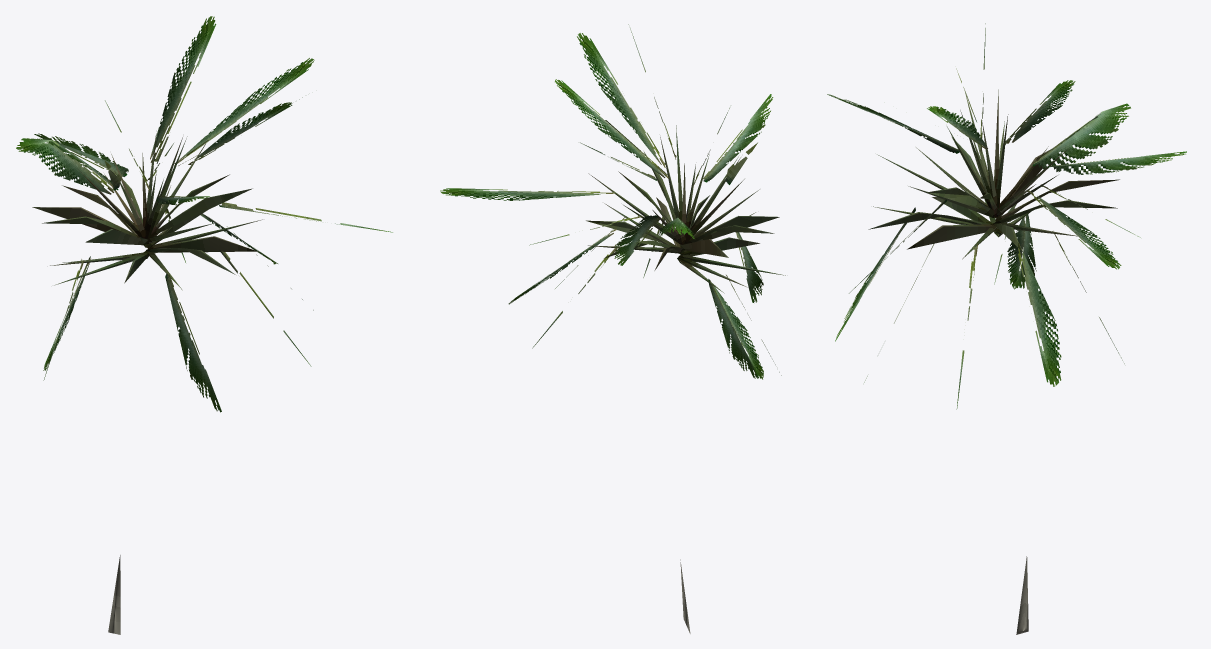
File: palm-young-a.lod2.glb
The picture shows the model from 3 angles, left to right: view 1: azimuth 30°, elevation 25°; view 2: azimuth 150°, elevation 25°; view 3: azimuth 270°, elevation 25°; orthographic projection. The views are drawn at different scales.
Visible parts, largest first — view 1: SM_MZRa_Palm_B081_MI_MZRa_Palm_B08a_0, SM_MZRa_Palm_B081_MI_MZRa_Palm_B08b_0; view 2: SM_MZRa_Palm_B081_MI_MZRa_Palm_B08a_0, SM_MZRa_Palm_B081_MI_MZRa_Palm_B08b_0; view 3: SM_MZRa_Palm_B081_MI_MZRa_Palm_B08a_0, SM_MZRa_Palm_B081_MI_MZRa_Palm_B08b_0.
Part boxes in pixels (x1=…): SM_MZRa_Palm_B081_MI_MZRa_Palm_B08a_0: x1=16, y1=16, x2=392, y2=412; SM_MZRa_Palm_B081_MI_MZRa_Palm_B08b_0: x1=32, y1=133, x2=262, y2=634; SM_MZRa_Palm_B081_MI_MZRa_Palm_B08a_0: x1=440, y1=24, x2=781, y2=379; SM_MZRa_Palm_B081_MI_MZRa_Palm_B08b_0: x1=586, y1=125, x2=785, y2=633; SM_MZRa_Palm_B081_MI_MZRa_Palm_B08a_0: x1=827, y1=23, x2=1186, y2=409; SM_MZRa_Palm_B081_MI_MZRa_Palm_B08b_0: x1=868, y1=88, x2=1119, y2=634.
Bounding box in the file's own units: 2.87 × 5 × 2.77.
2 materials, 2 textured.
